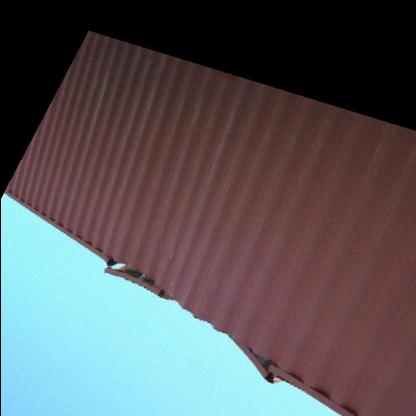Damage: (202, 306, 354, 384), (98, 238, 184, 300)
